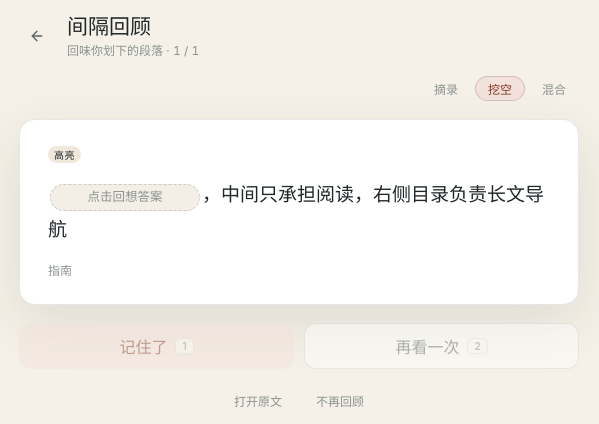
it: ReviewView 挖空闪卡 (plan-cloze-review) › reveals on capsule click and keeps 打开原文 available while masked
The image size is (599, 424).
遮蔽态不锁「打开原文」(CZ-D7)。
Press Enter
Click the button "点击回想答案": (125, 198) [50,184,200,211]
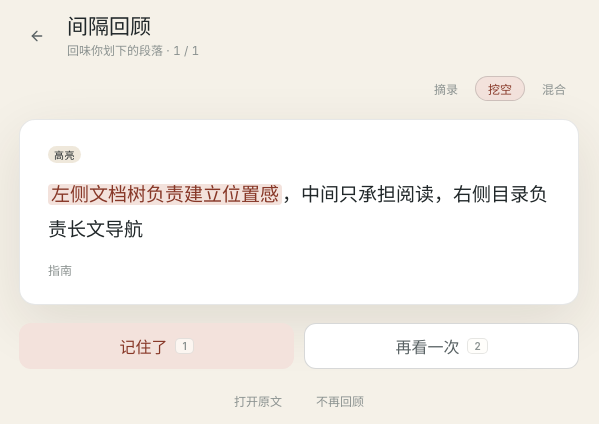
Check: the text "左侧文档树负责建立位置感" is shown, box [48,184,282,205]
